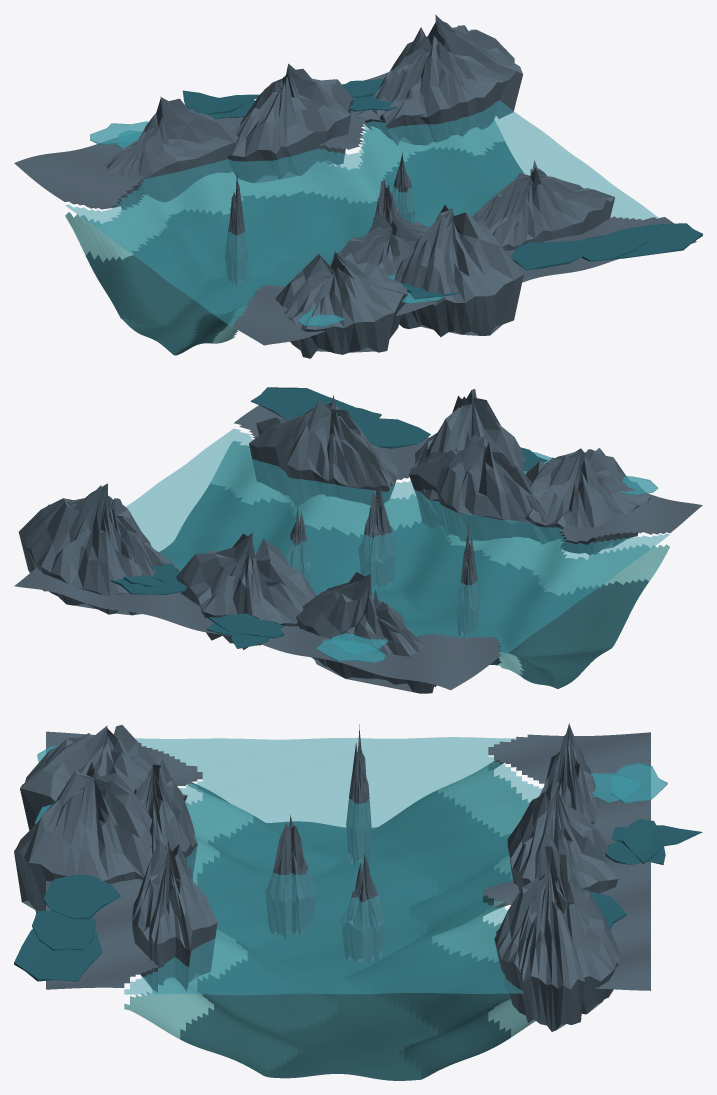
Rendered from water_tile_06.glb.
The picture shows the model from 3 angles, top to bottom: view 1: azimuth 30°, elevation 25°; view 2: azimuth 150°, elevation 25°; view 3: azimuth 270°, elevation 25°; orthographic projection. The views are drawn at different scales.
Parts seen in each view (by area): view 1: glacial water surface 06, submerged mineral riverbed.006, visible shallow mineral shelves.006, angular fractured shoreline ledge.075, single continuous dark slate shoreline.006, angular fractured shoreline ledge.071, angular fractured shoreline ledge.068, angular fractured shoreline ledge.072, angular fractured shoreline ledge.070, angular fractured shoreline ledge.073, angular fractured shoreline ledge.069, angular fractured shoreline ledge.074 (+9 smaller); view 2: glacial water surface 06, submerged mineral riverbed.006, single continuous dark slate shoreline.006, visible shallow mineral shelves.006, angular fractured shoreline ledge.073, angular fractured shoreline ledge.074, angular fractured shoreline ledge.071, angular fractured shoreline ledge.072, angular fractured shoreline ledge.069, angular fractured shoreline ledge.070, angular fractured shoreline ledge.075, angular fractured shoreline ledge.068 (+11 smaller); view 3: glacial water surface 06, submerged mineral riverbed.006, single continuous dark slate shoreline.006, visible shallow mineral shelves.006, angular fractured shoreline ledge.075, angular fractured shoreline ledge.068, angular fractured shoreline ledge.073, angular fractured shoreline ledge.071, angular fractured shoreline ledge.072, angular fractured shoreline ledge.069, underwater worn boulder.022, angular fractured shoreline ledge.074 (+12 smaller).
Part boxes in pixels (x1=…): glacial water surface 06: x1=65, y1=100, x2=658, y2=326; submerged mineral riverbed.006: x1=86, y1=141, x2=524, y2=355; visible shallow mineral shelves.006: x1=65, y1=119, x2=504, y2=343; angular fractured shoreline ledge.075: x1=394, y1=204, x2=523, y2=336; single continuous dark slate shoreline.006: x1=14, y1=72, x2=696, y2=345; angular fractured shoreline ledge.071: x1=227, y1=63, x2=353, y2=182; angular fractured shoreline ledge.068: x1=373, y1=19, x2=522, y2=145; angular fractured shoreline ledge.072: x1=276, y1=252, x2=407, y2=358; angular fractured shoreline ledge.070: x1=90, y1=96, x2=238, y2=209; angular fractured shoreline ledge.073: x1=472, y1=160, x2=614, y2=250; angular fractured shoreline ledge.069: x1=356, y1=14, x2=502, y2=142; angular fractured shoreline ledge.074: x1=329, y1=207, x2=429, y2=276; glacial water surface 06: x1=126, y1=428, x2=669, y2=657; submerged mineral riverbed.006: x1=159, y1=483, x2=648, y2=688; single continuous dark slate shoreline.006: x1=14, y1=405, x2=702, y2=690; visible shallow mineral shelves.006: x1=210, y1=441, x2=669, y2=677; angular fractured shoreline ledge.073: x1=249, y1=395, x2=397, y2=507; angular fractured shoreline ledge.074: x1=409, y1=435, x2=551, y2=541; angular fractured shoreline ledge.071: x1=176, y1=532, x2=316, y2=649; angular fractured shoreline ledge.072: x1=524, y1=448, x2=651, y2=555; angular fractured shoreline ledge.069: x1=30, y1=485, x2=155, y2=615; angular fractured shoreline ledge.070: x1=296, y1=572, x2=436, y2=693; angular fractured shoreline ledge.075: x1=414, y1=389, x2=526, y2=520; angular fractured shoreline ledge.068: x1=18, y1=483, x2=180, y2=591; glacial water surface 06: x1=124, y1=737, x2=542, y2=995; submerged mineral riverbed.006: x1=180, y1=782, x2=512, y2=1080; single continuous dark slate shoreline.006: x1=46, y1=731, x2=650, y2=990; visible shallow mineral shelves.006: x1=124, y1=760, x2=535, y2=1039; angular fractured shoreline ledge.075: x1=14, y1=762, x2=152, y2=912; angular fractured shoreline ledge.068: x1=494, y1=859, x2=584, y2=1031; angular fractured shoreline ledge.073: x1=132, y1=840, x2=217, y2=991; angular fractured shoreline ledge.071: x1=507, y1=785, x2=618, y2=893; angular fractured shoreline ledge.072: x1=20, y1=725, x2=187, y2=830; angular fractured shoreline ledge.069: x1=496, y1=859, x2=618, y2=1014; underwater worn boulder.022: x1=265, y1=815, x2=316, y2=939; angular fractured shoreline ledge.074: x1=134, y1=759, x2=197, y2=877.
Bounding box in the file's own units: 1.07 × 0.3586 × 1.14.
